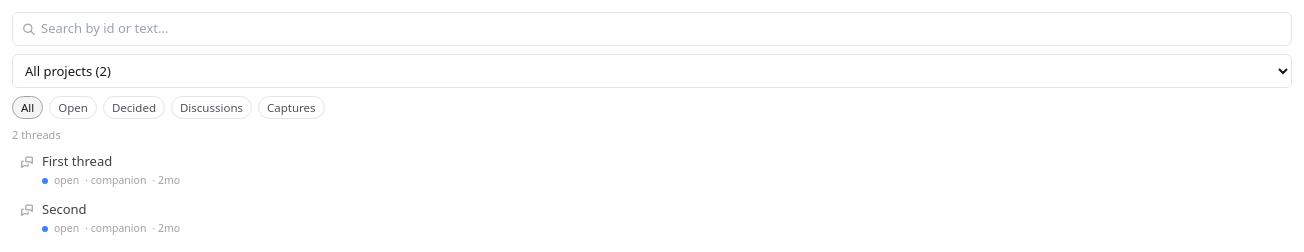
ConversationList › filters by project, and offers the picker only when there is more than one
Select "other-project (1)" in the dropdown named "Filter by project" at point(652, 70), box [12,54,1292,88]
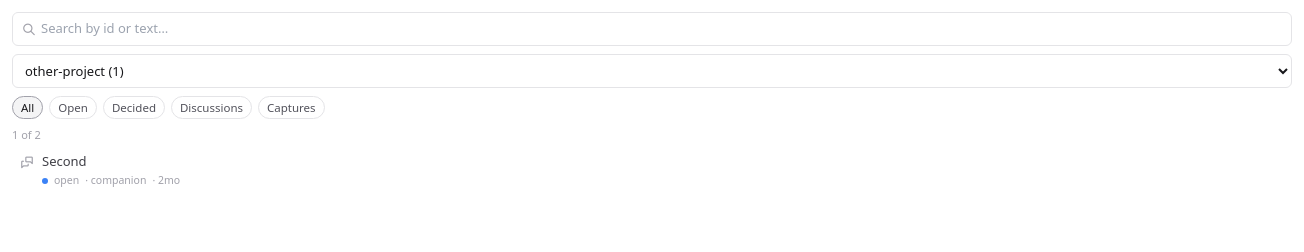
Expected: the text "Second" is shown, [42,152,87,170]
Now the button "First thread" is gone
